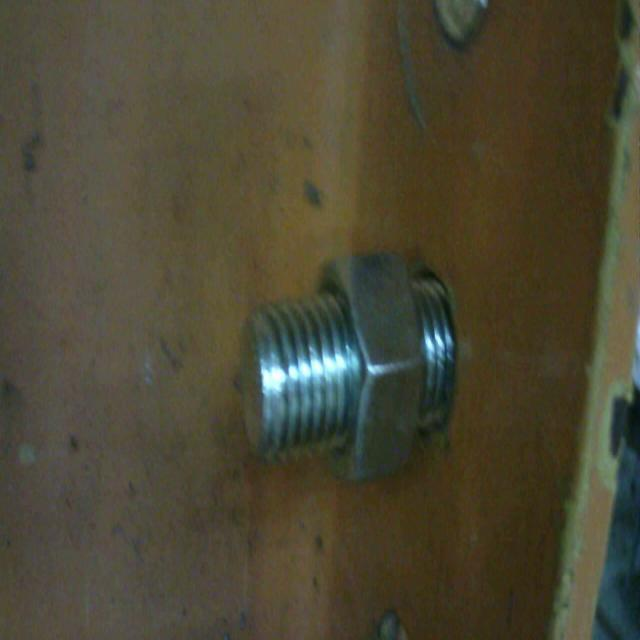Loose bolt: (241, 247, 461, 482)
